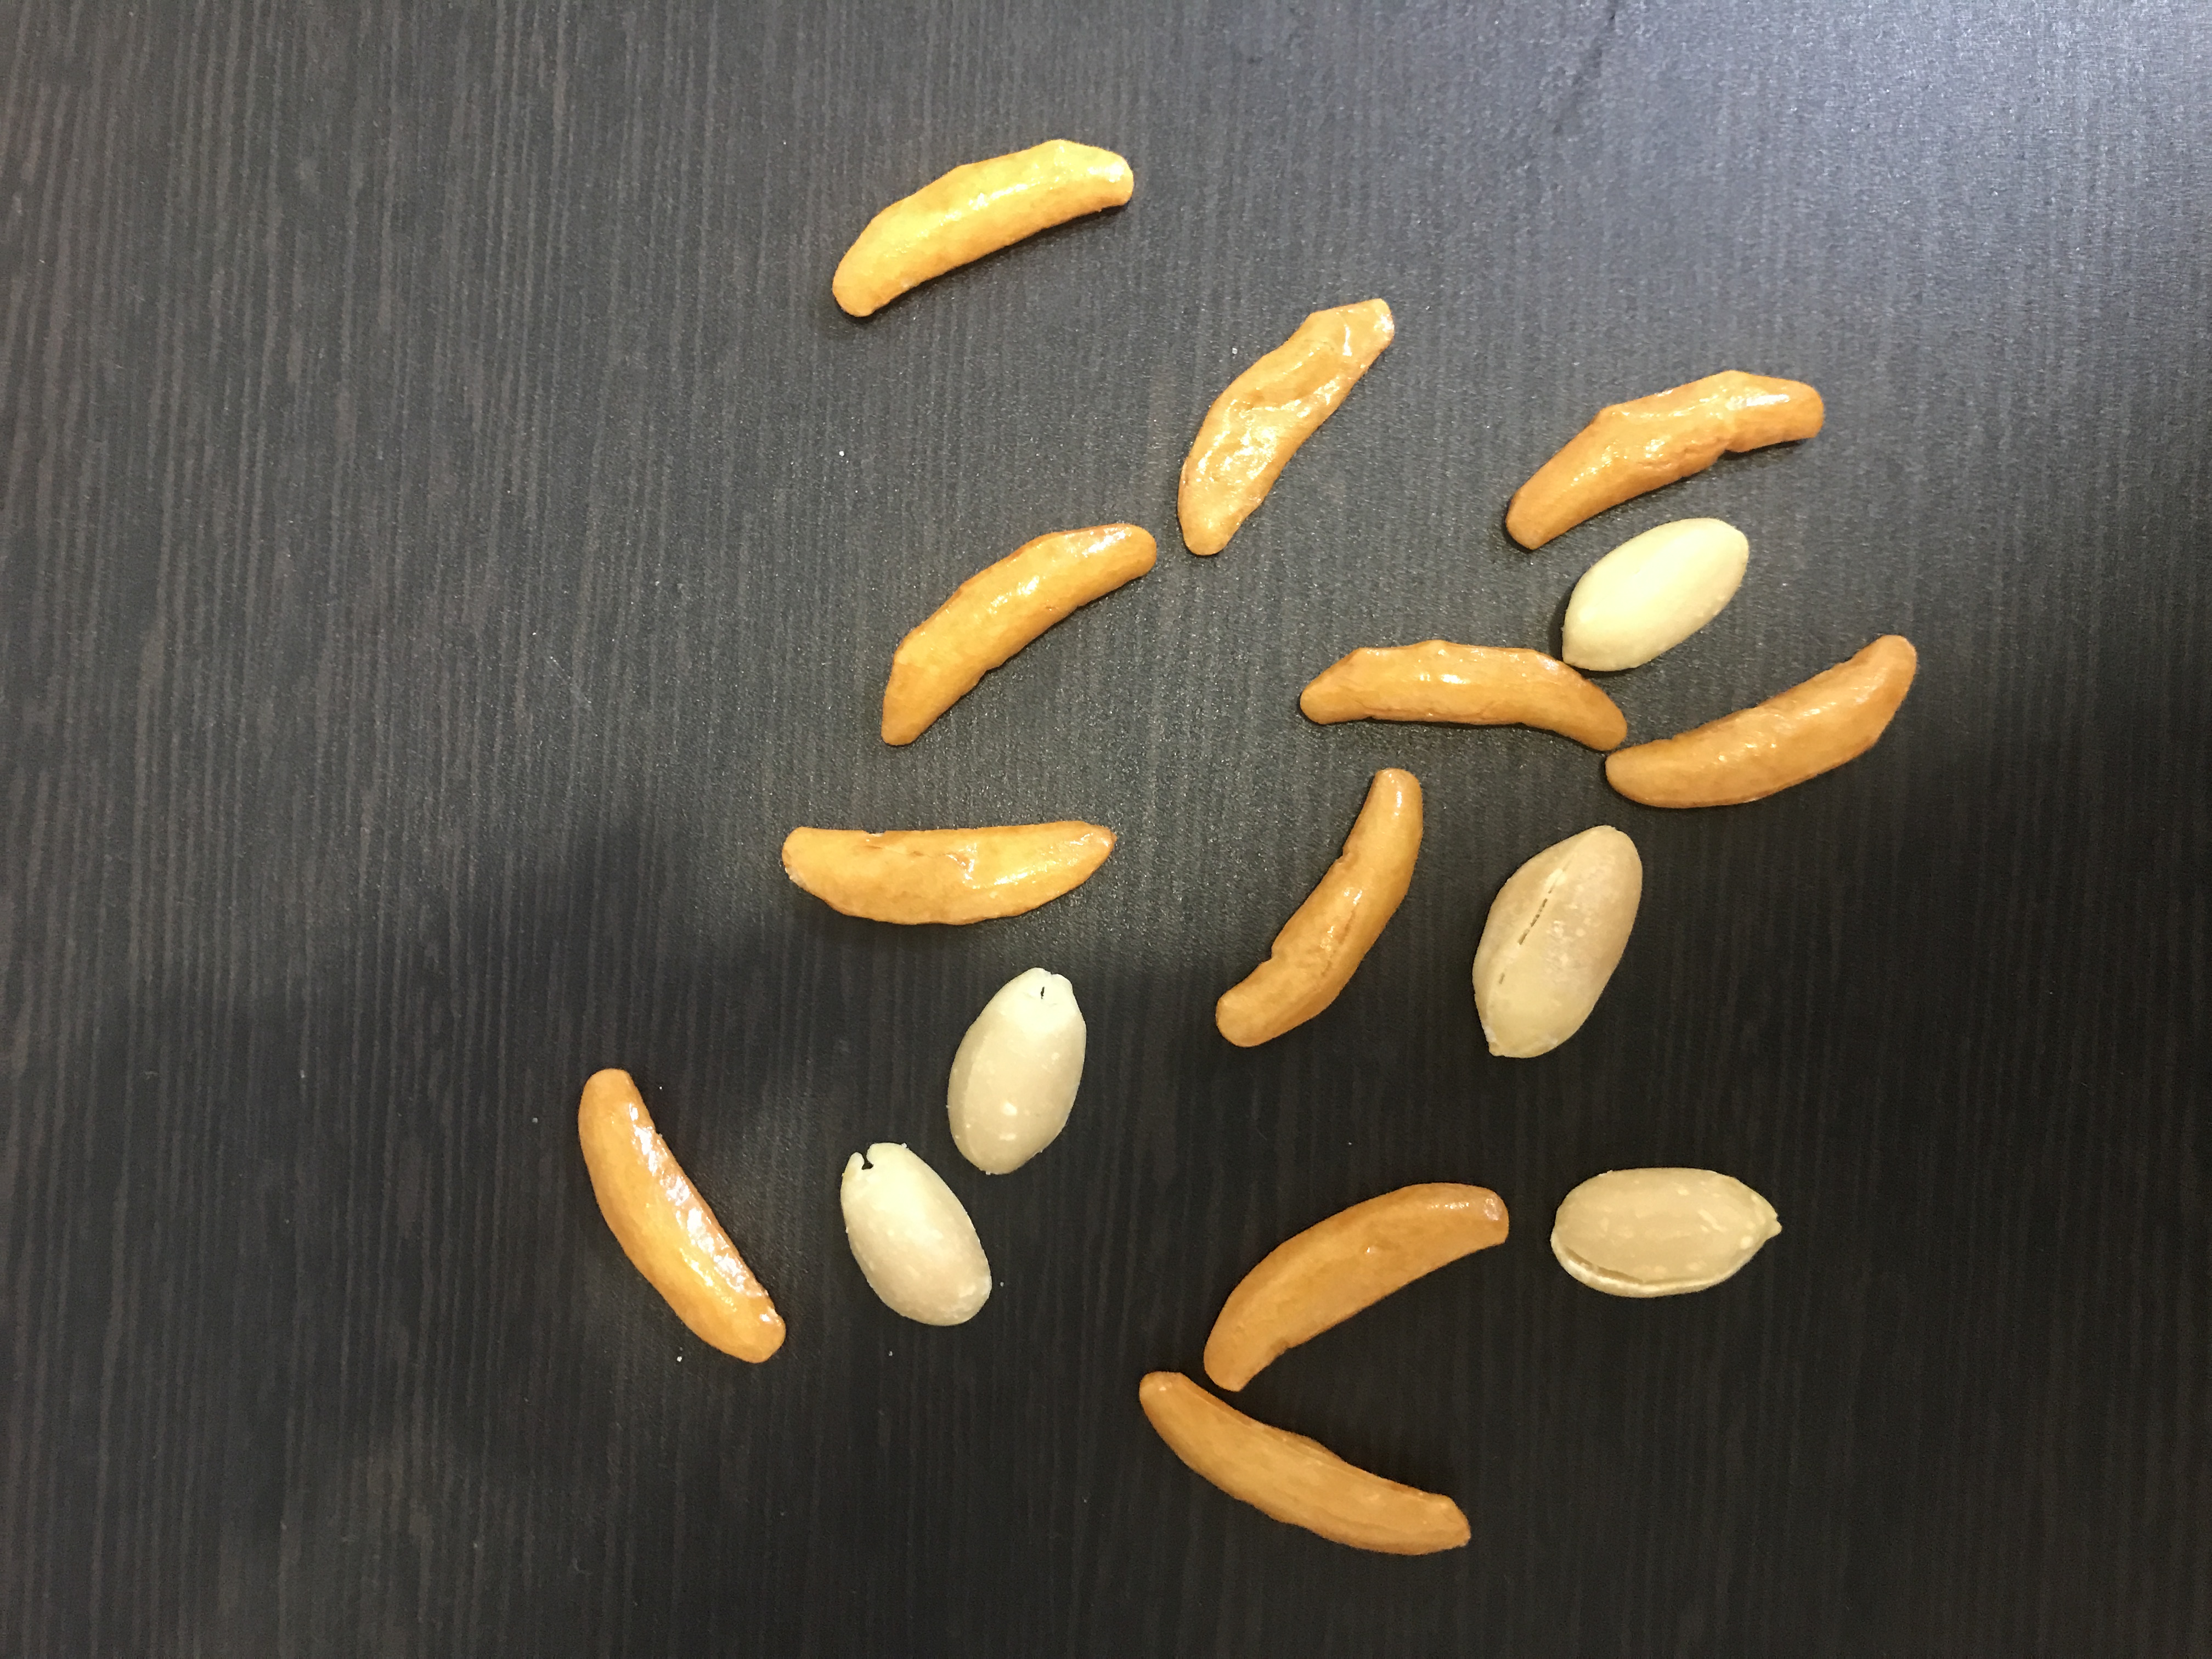peanut: (1472, 819, 1648, 1072), (829, 1136, 1000, 1330), (1548, 1162, 1789, 1297), (948, 967, 1087, 1185), (1561, 516, 1752, 671)
